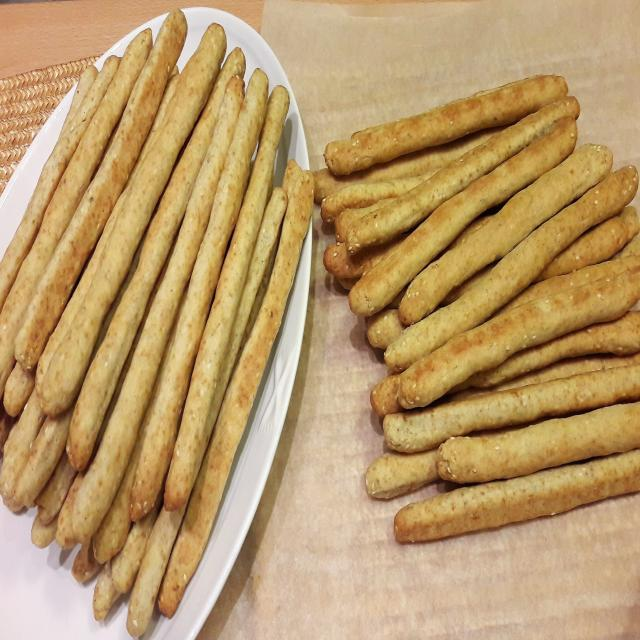Grissini: (10, 11, 314, 617), (328, 73, 638, 544)
